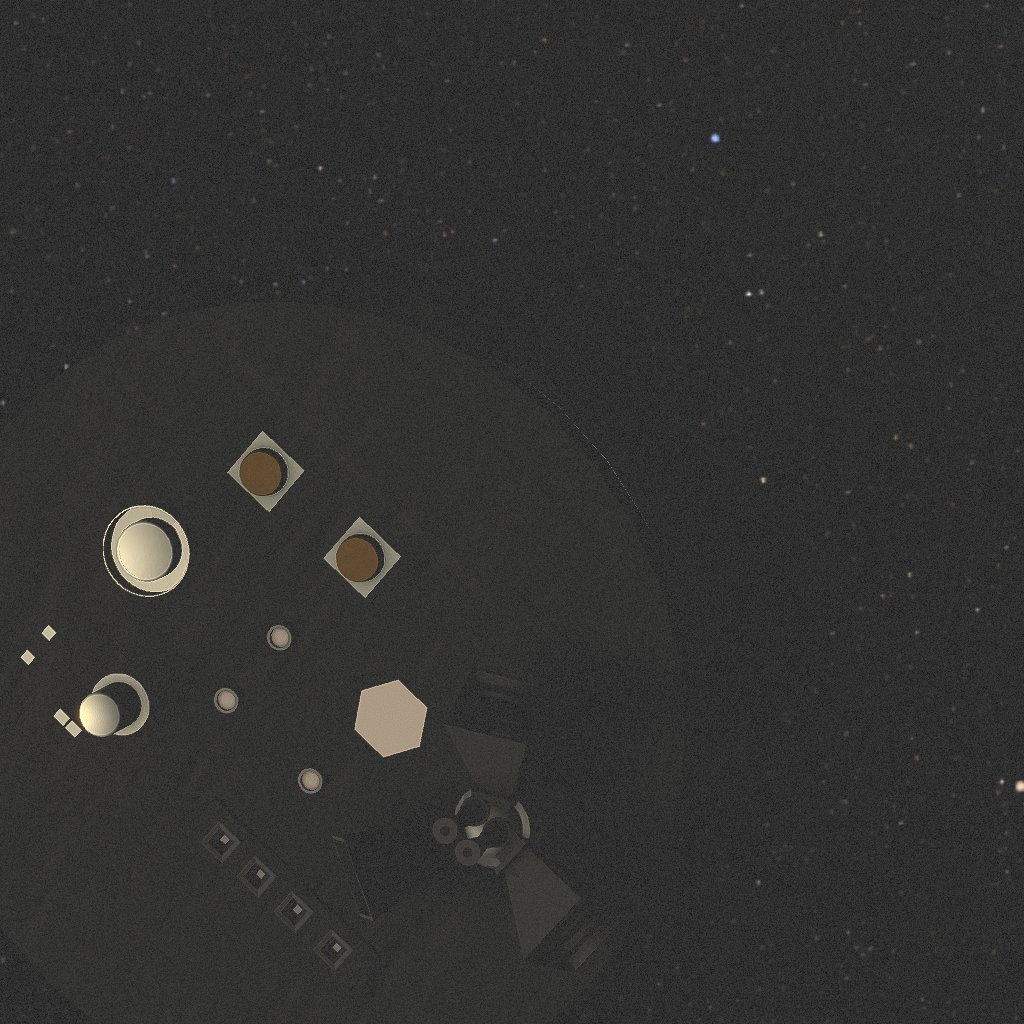proba_3_ocs: (0, 253, 827, 1024)
